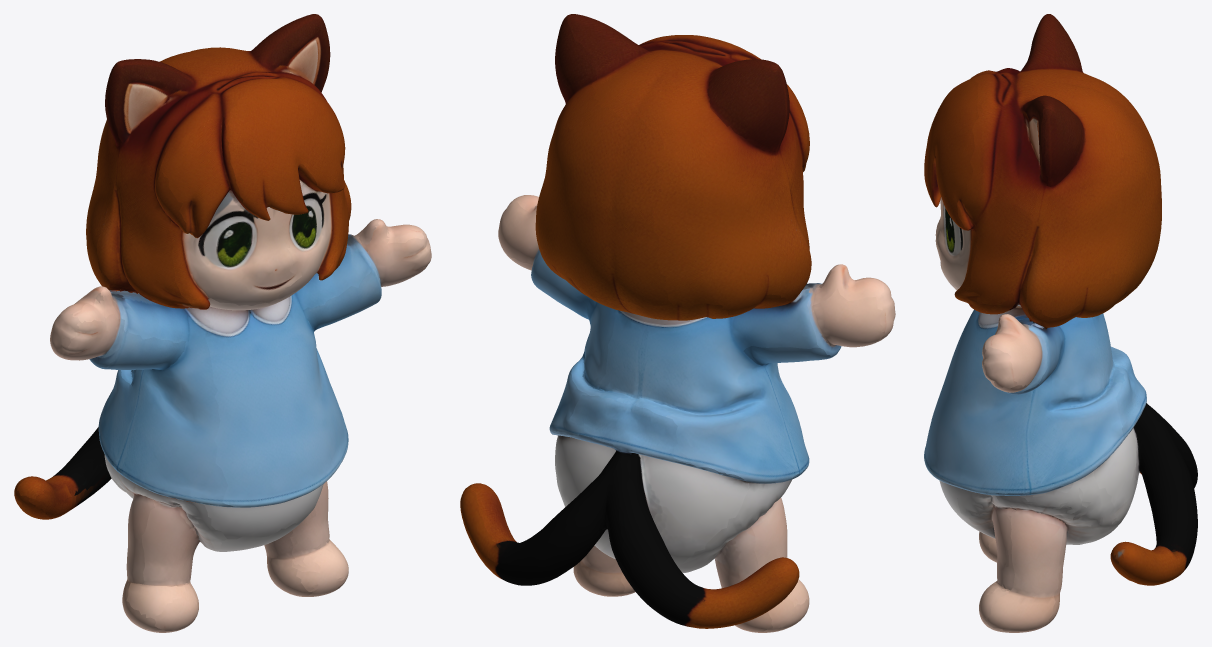
Rendered from cuppercakedoll.glb.
3 views of the same model, side by side, from view 1: azimuth 30°, elevation 25°; view 2: azimuth 150°, elevation 25°; view 3: azimuth 270°, elevation 25° (orthographic). The views are drawn at different scales.
Parts seen in each view (by area): view 1: temp_mesh.ply; view 2: temp_mesh.ply; view 3: temp_mesh.ply.
Part boxes in pixels (x1,y1,x2,y2): temp_mesh.ply: [14, 14, 431, 632]; temp_mesh.ply: [460, 14, 895, 632]; temp_mesh.ply: [924, 14, 1197, 632].
Bounding box in the file's own units: 1.39 × 1.97 × 0.9201.
1 material, 1 textured.
